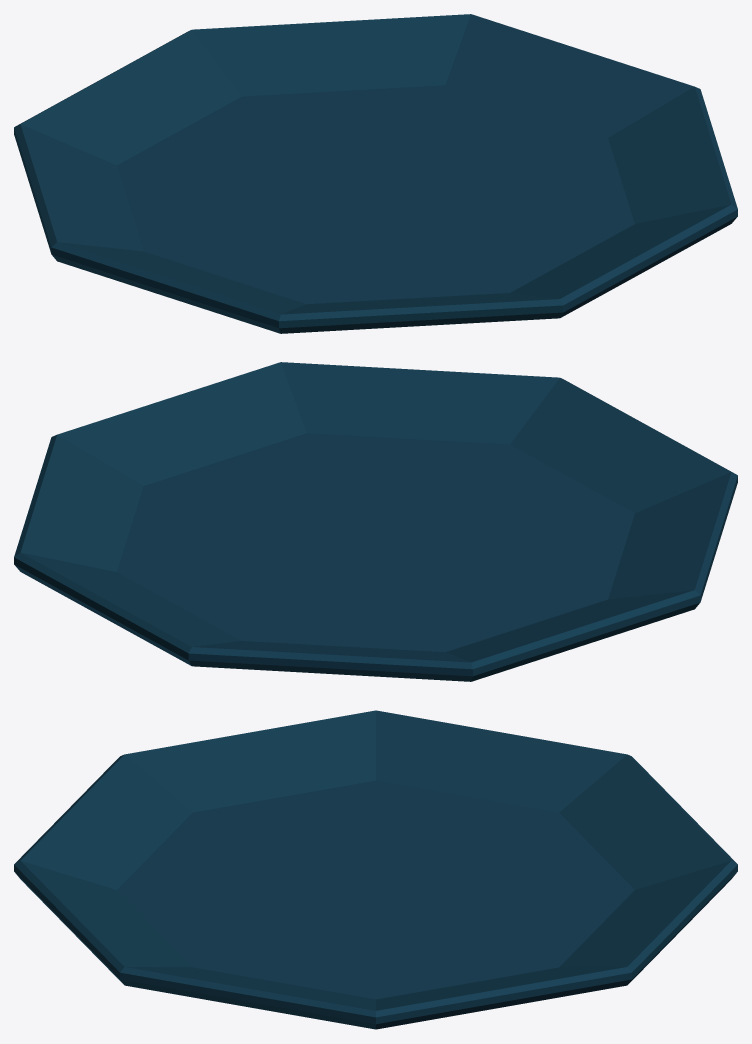
File: Plate.fbx
3 views of the same model, one above another, from view 1: azimuth 30°, elevation 25°; view 2: azimuth 150°, elevation 25°; view 3: azimuth 270°, elevation 25° (orthographic). The views are drawn at different scales.
Parts seen in each view (by area): view 1: Plate; view 2: Plate; view 3: Plate.
Part boxes in pixels (bbox=[...]): Plate: bbox=[14, 14, 737, 333]; Plate: bbox=[14, 362, 737, 681]; Plate: bbox=[14, 710, 737, 1029].
Bounding box in the file's own units: 0.3747 × 0.0294 × 0.3747.
1 material, 1 textured.
